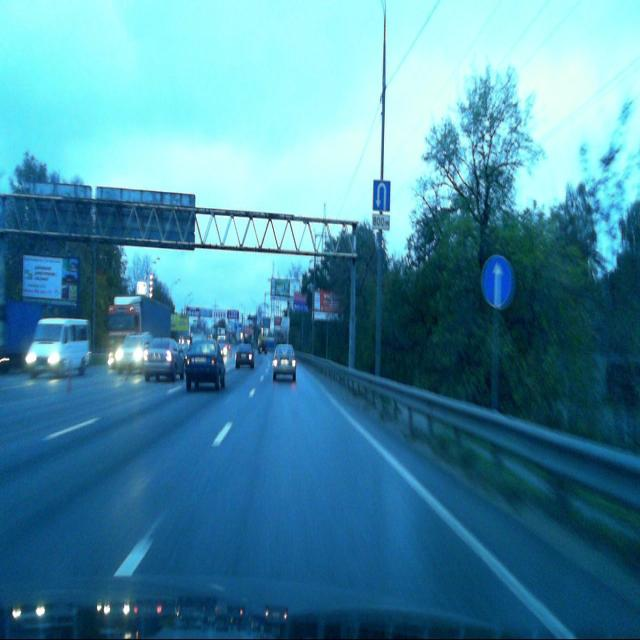road sign: (373, 180, 390, 211), (372, 213, 390, 230)
